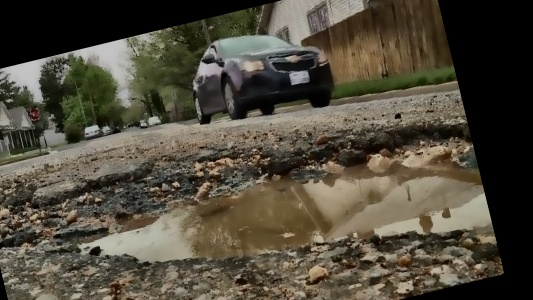pothole: (0, 75, 493, 300)
